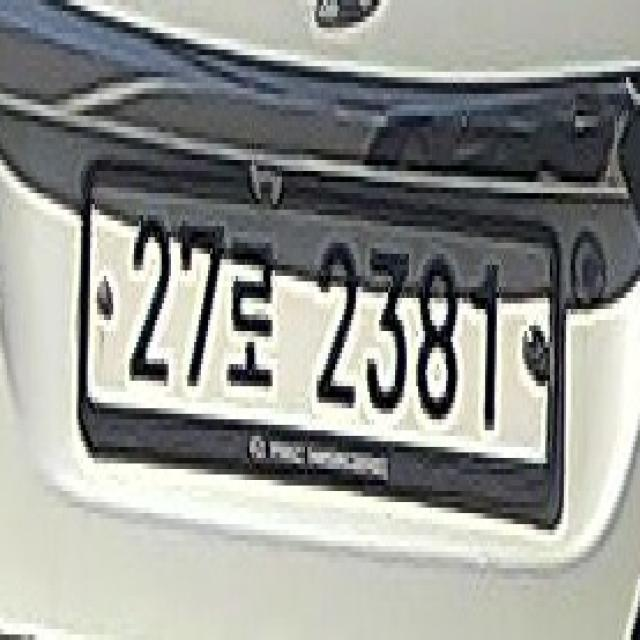plat: (77, 158, 570, 528)
